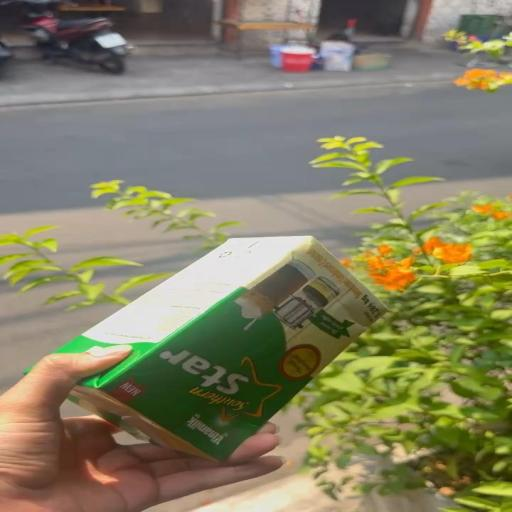ly_giay: (57, 237, 385, 460)
